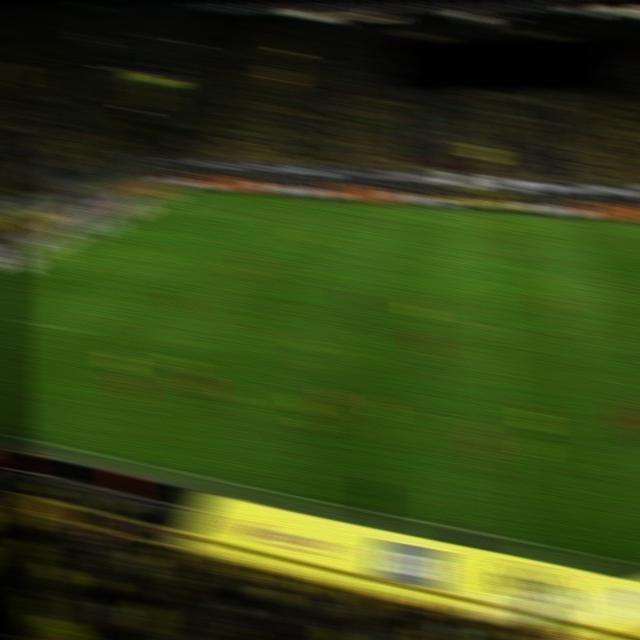bigarea_bottom_inner: (64, 323, 92, 337)
bigarea_top_inner: (227, 210, 255, 223)
bigarea_top_outter: (130, 201, 157, 215)
bottom_arc_area_intersection: (139, 271, 166, 284)
corner: (170, 183, 197, 197)
halfcircle_bottom: (481, 320, 511, 336)
halfcircle_top: (476, 255, 504, 269)
midline_bottom_intersection: (499, 530, 528, 546)
midline_top_intersection: (471, 205, 499, 218)
smallarea_bottom_inner: (40, 268, 68, 282)
smallarea_bottom_outter: (0, 262, 27, 276)
smallarea_top_inner: (124, 224, 152, 238)
smallarea_top_outter: (90, 221, 118, 235)
top_arc_area_intersection: (191, 233, 220, 247)
